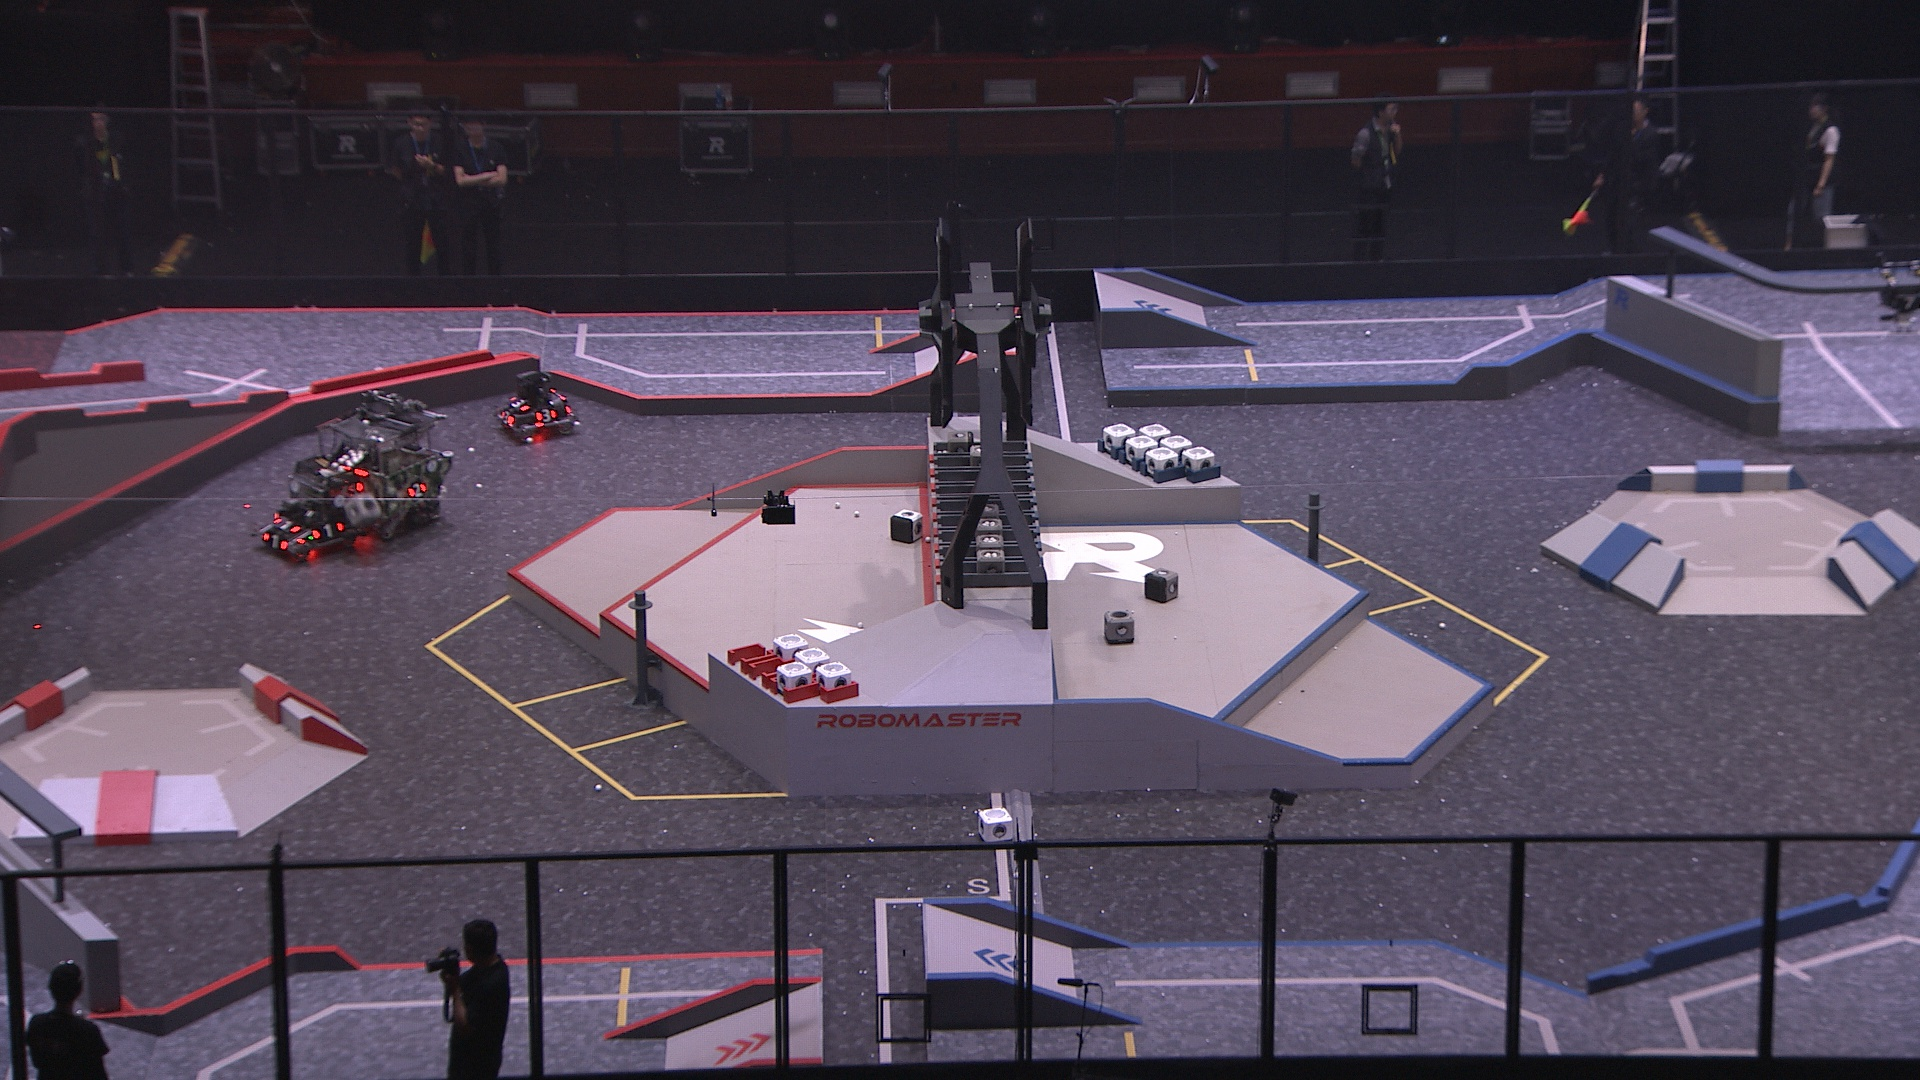armor: (310, 520, 344, 541), (258, 531, 289, 553), (269, 517, 301, 535), (342, 475, 365, 498), (1892, 294, 1920, 311), (534, 404, 556, 425), (406, 481, 429, 500), (498, 406, 517, 427), (509, 396, 529, 413)
car: (310, 389, 451, 545), (253, 450, 381, 564), (493, 368, 579, 447)
watcher: (1874, 247, 1920, 332)
